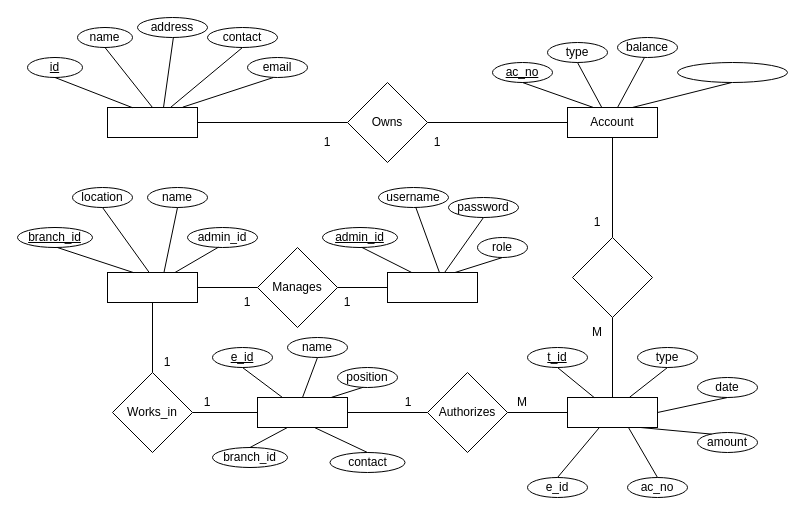
The diagram is 805 pixels wide and 515 high, and some of its shapes have lost their labels. The shapes that lost their labels are listed below. From the top down, each one's box as (x1, y1, x2, y2) in pixels, then its label:
(676, 62, 788, 82): customer_id
(106, 106, 198, 138): Customer
(106, 272, 198, 302): Branch
(386, 272, 478, 302): Admin
(572, 236, 652, 318): Performs
(256, 396, 348, 428): Employee
(566, 396, 658, 428): Transaction
